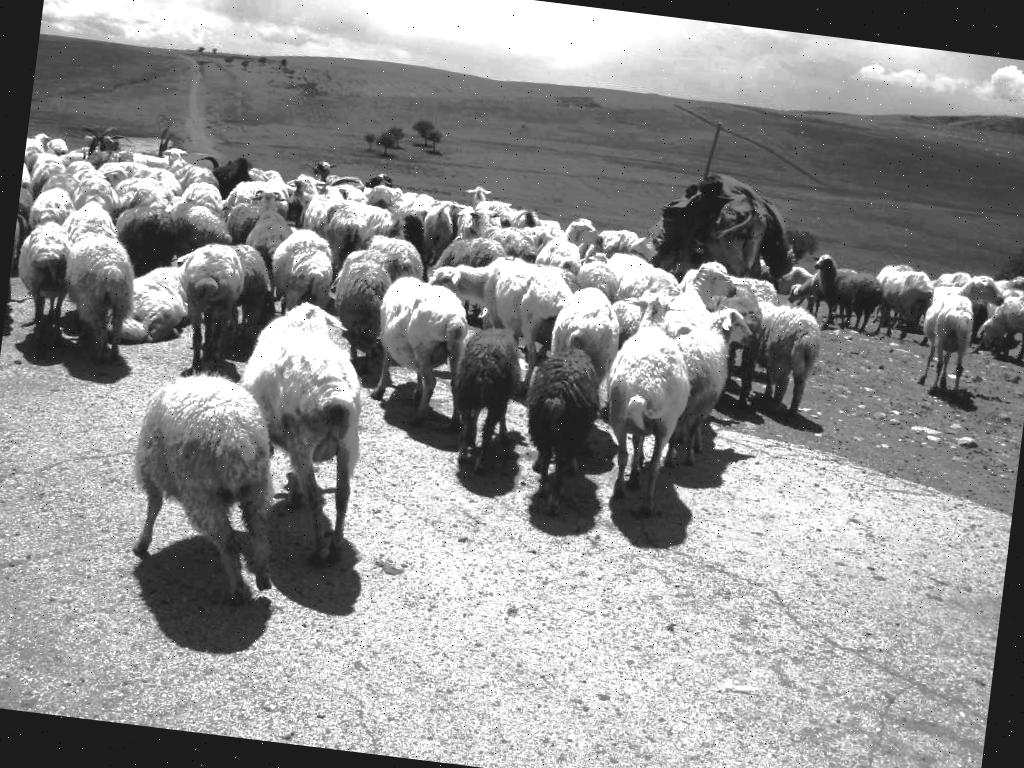Sheep: (122, 353, 308, 606), (216, 292, 386, 544), (588, 276, 698, 484), (417, 246, 573, 374), (364, 272, 476, 422), (662, 294, 760, 458), (731, 272, 830, 422), (49, 216, 148, 363), (439, 308, 528, 470), (520, 330, 602, 487), (919, 259, 1008, 402), (162, 232, 248, 364), (544, 276, 622, 392), (8, 210, 76, 337)
